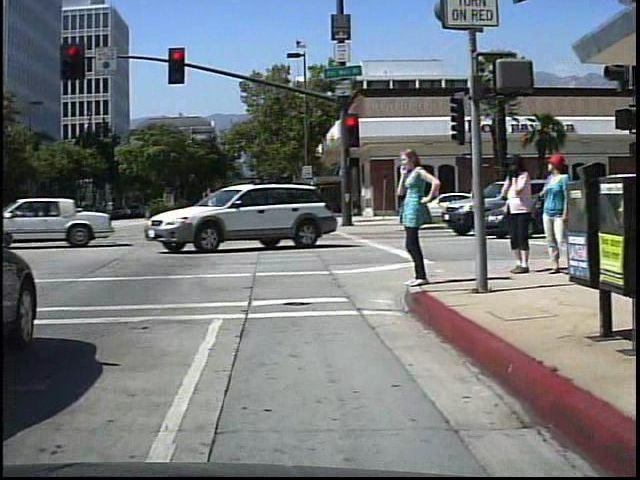person: (391, 145, 439, 292), (533, 146, 575, 274), (492, 148, 534, 275)
